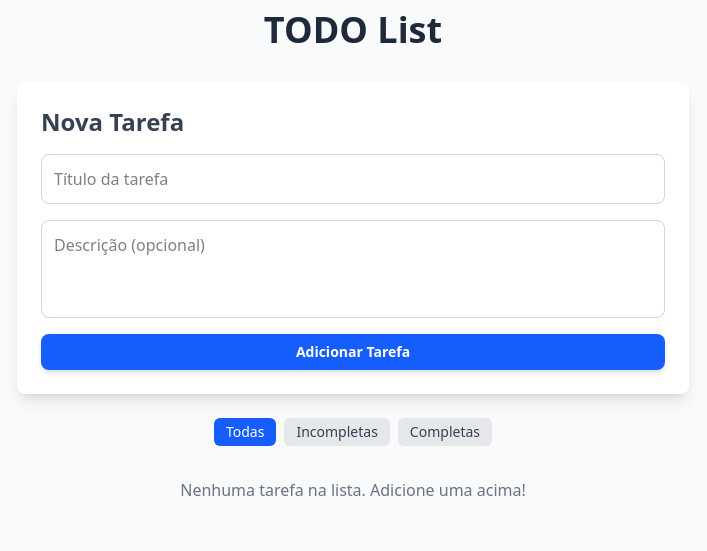
it: Home Page Integration Test › should allow a user to delete a task
The image size is (707, 551).
Type "Tarefa para excluir" into the field with placeholder "Título da tarefa".
click(353, 179); type("Tarefa para excluir")  # box [41,154,665,204]
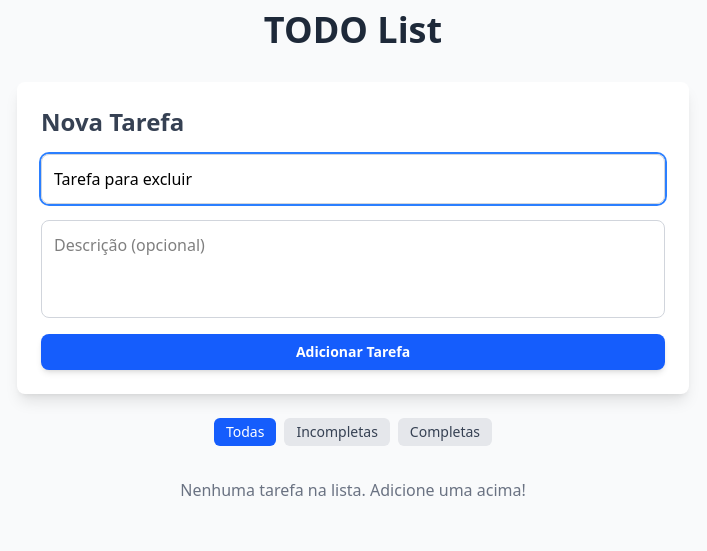
Click the button "Adicionar Tarefa".
click(353, 352)  # box [41,334,665,370]
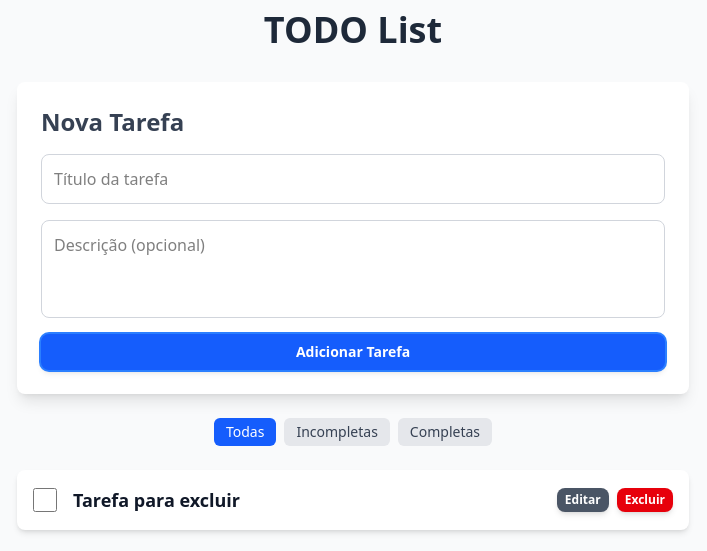
Expected: the text "Tarefa para excluir" is shown, [73,488,240,512]
Click the button "Excluir".
click(645, 500)  # box [617,488,673,512]
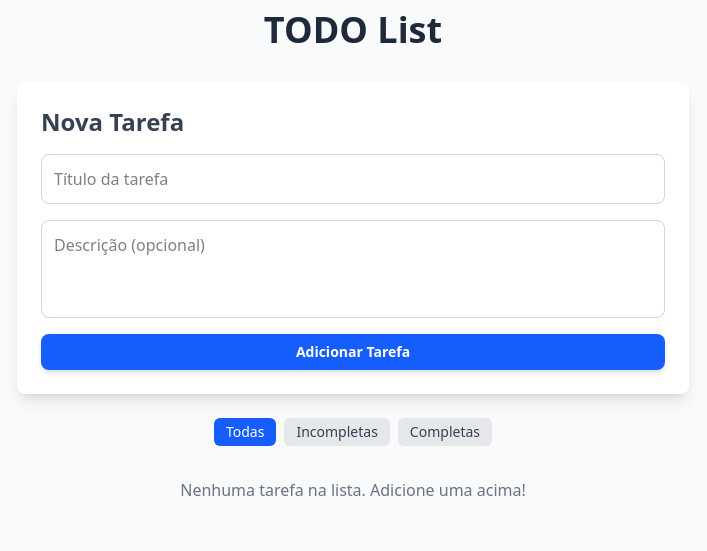
Expected: the heading "Tarefa para excluir" is gone
